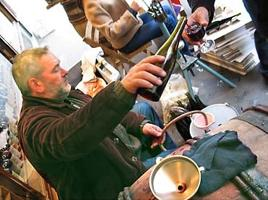person: (12, 47, 180, 200)
